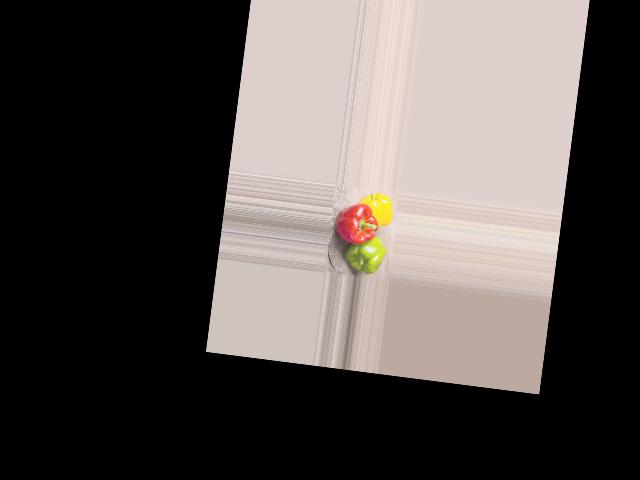bell_pepper: (356, 191, 396, 227)
